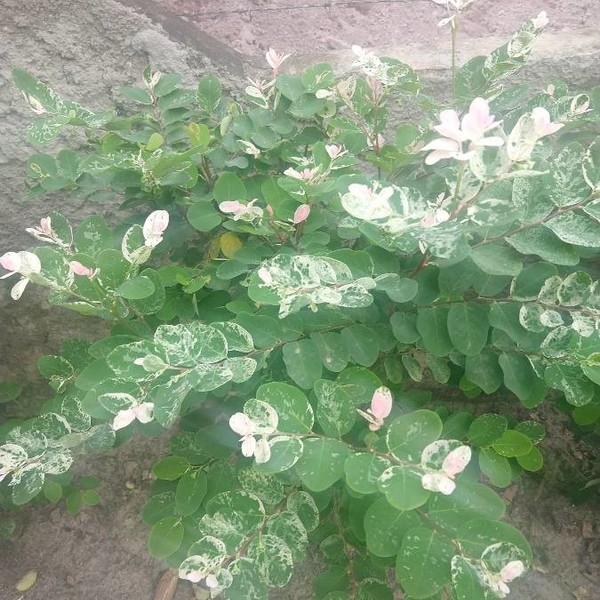obstacle: (77, 82, 489, 535)
